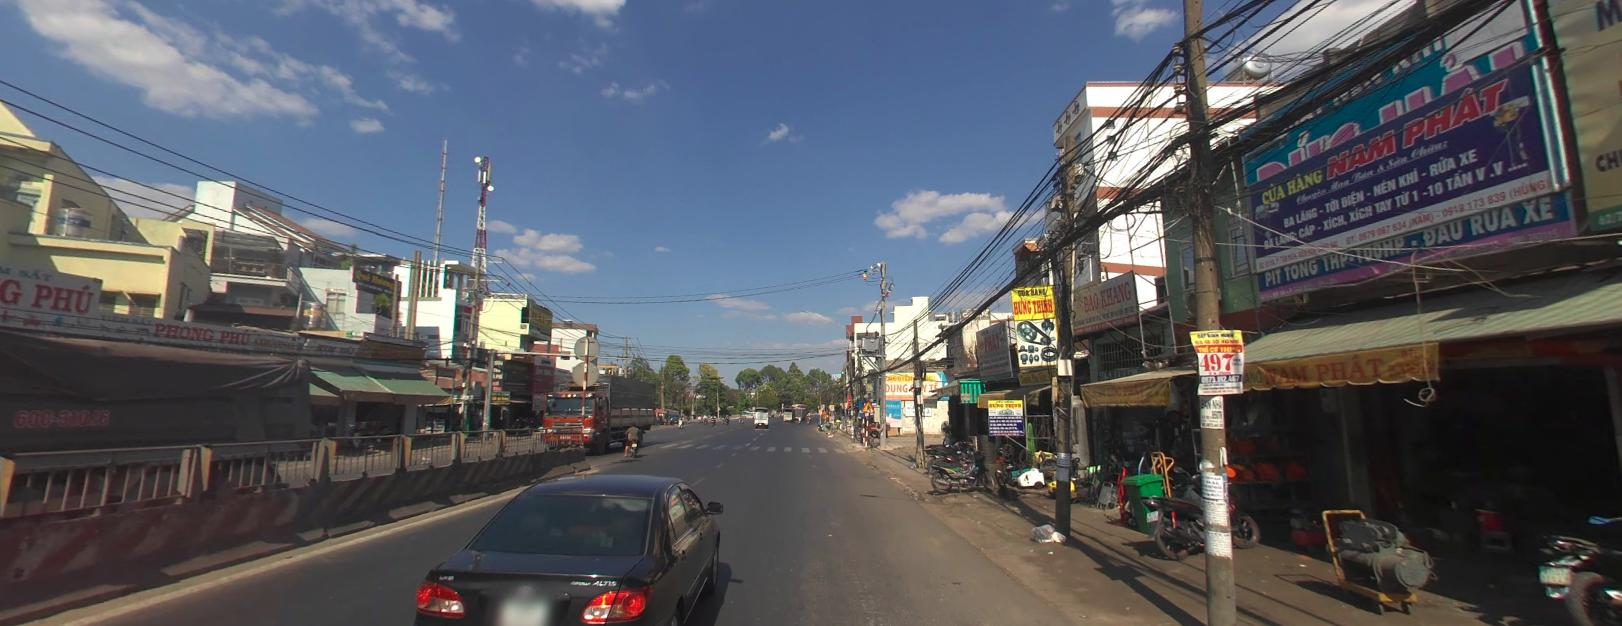Nguy hiem: (861, 399, 875, 412), (821, 408, 827, 413)
